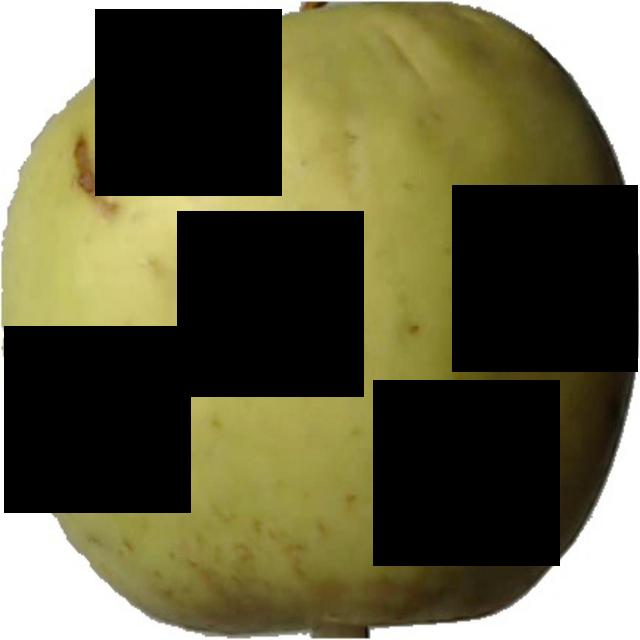apple: (13, 8, 638, 638)
